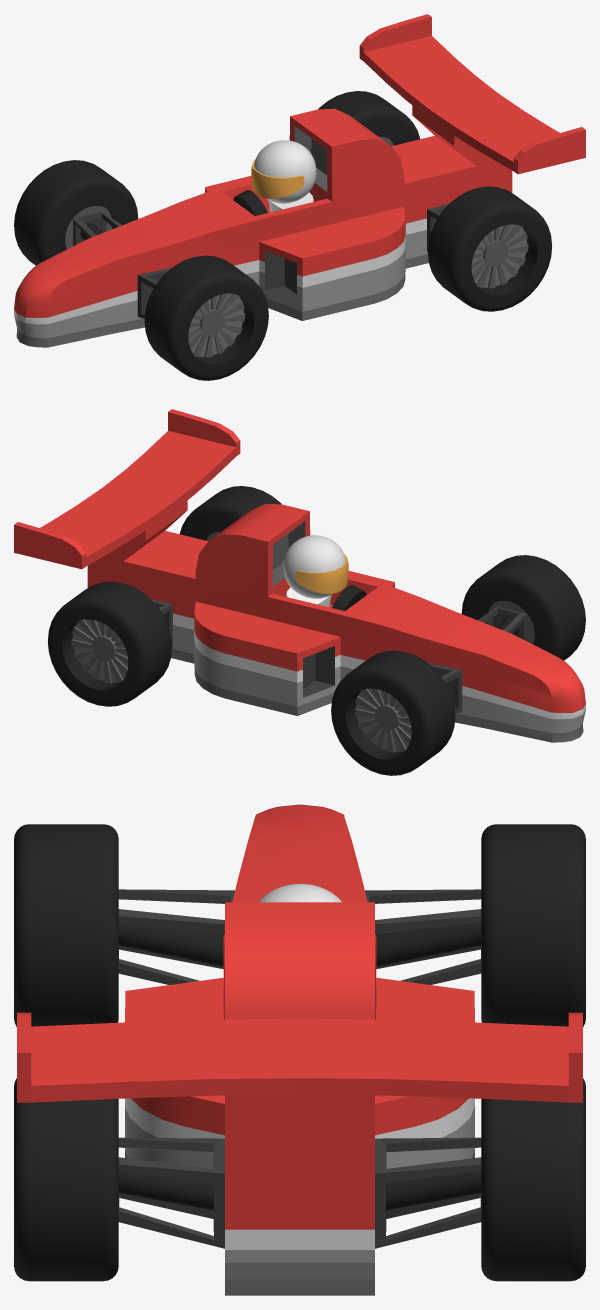
Rendered from racing_car.glb.
3 renders of one model, top to bottom at view 1: azimuth 30°, elevation 25°; view 2: azimuth 150°, elevation 25°; view 3: azimuth 270°, elevation 25°, orthographic. The views are drawn at different scales.
Visible parts, largest first — view 1: Cube.723; view 2: Cube.723; view 3: Cube.723.
Boxes of the visible parts, x1,y1,x2,y2 form: Cube.723: (14, 14, 585, 380); Cube.723: (14, 409, 585, 775); Cube.723: (14, 804, 585, 1295).
Size of the model in its own units: 2.32 by 0.7352 by 1.31.
1 material, 1 textured.
